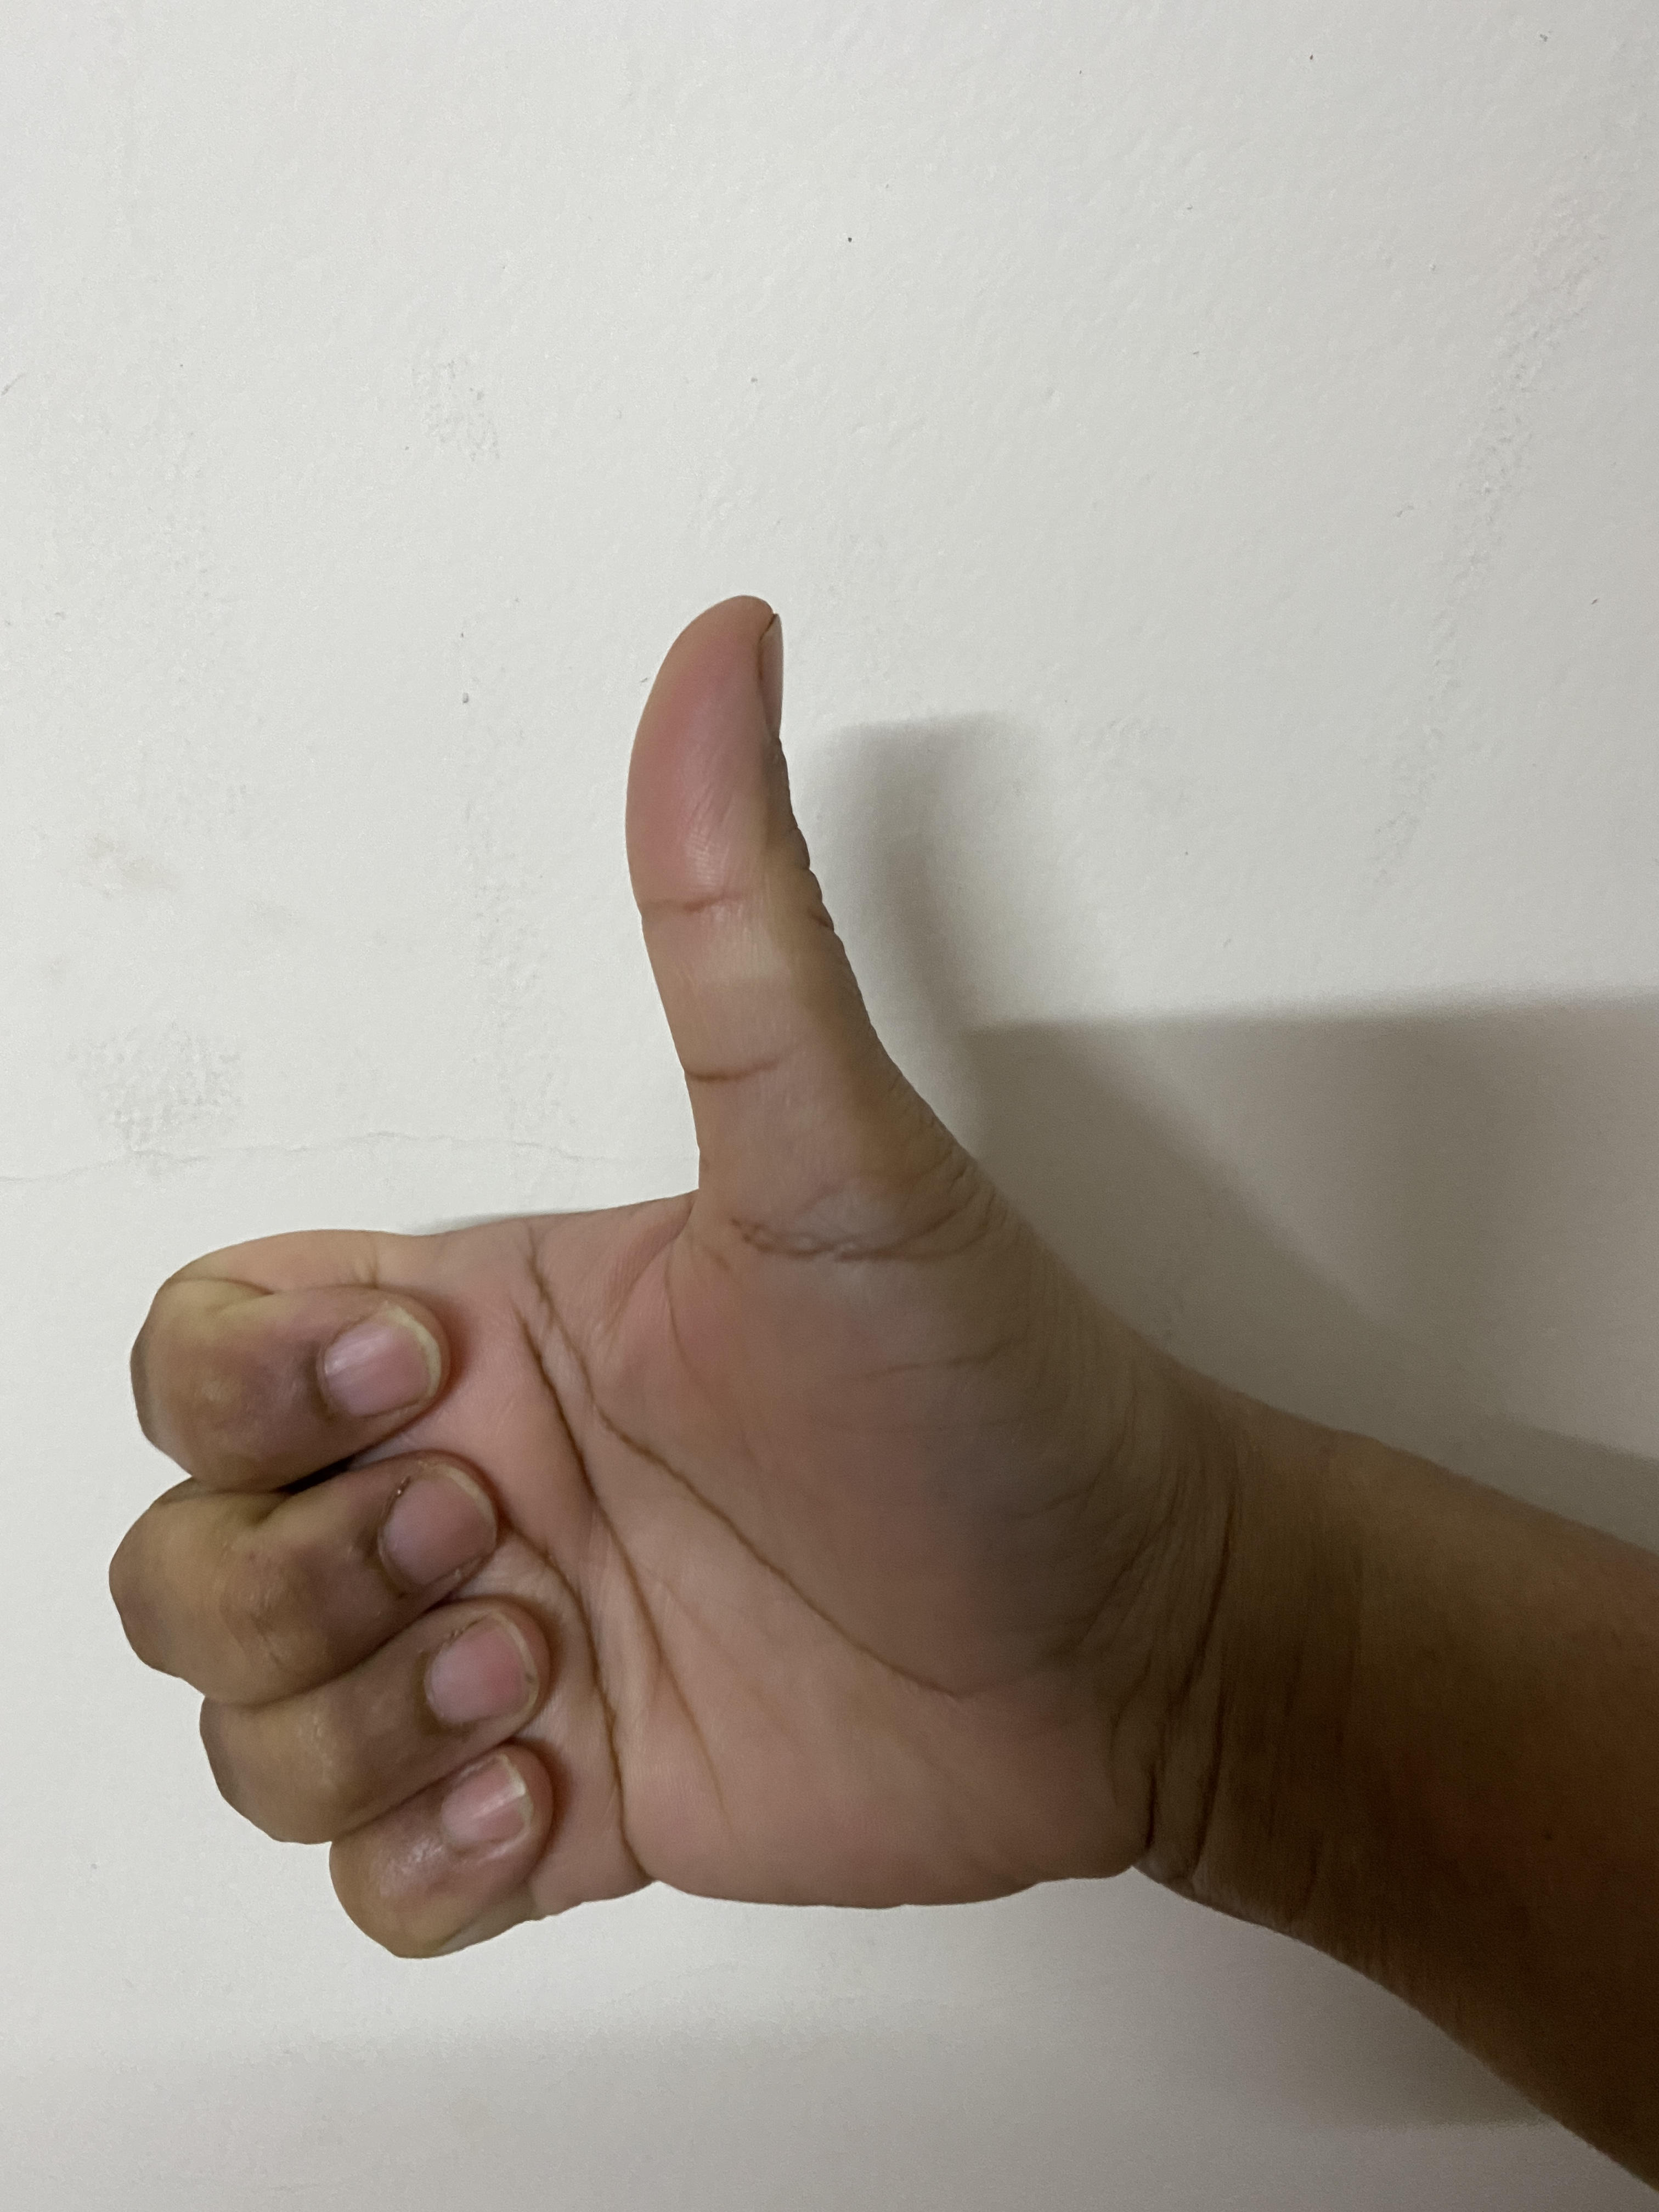up: (66, 446, 1420, 2085)
